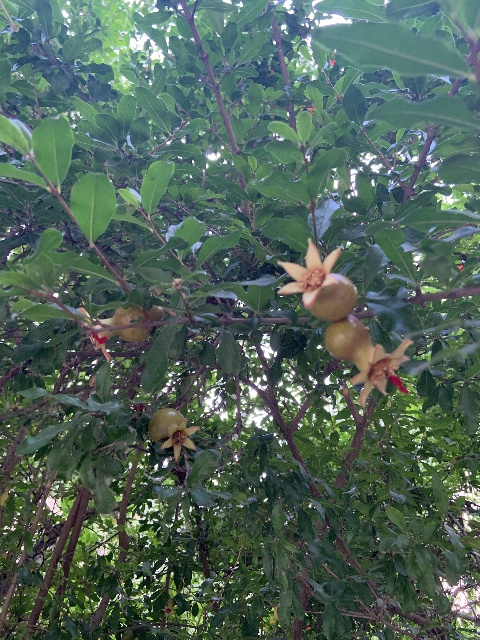early-fruit: (324, 318, 413, 407), (276, 239, 357, 320), (72, 305, 161, 361), (148, 408, 199, 461), (160, 598, 176, 616)
